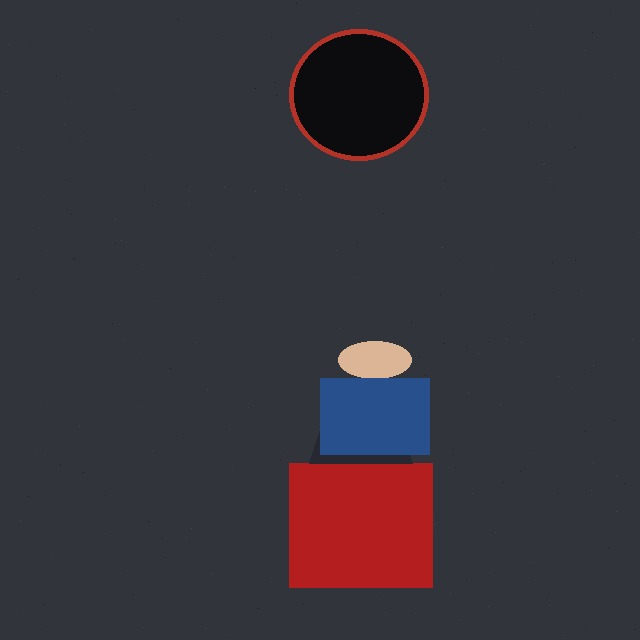open_manhole: (289, 29, 428, 160)
person: (266, 341, 484, 454)
vehicle: (289, 401, 432, 587)
